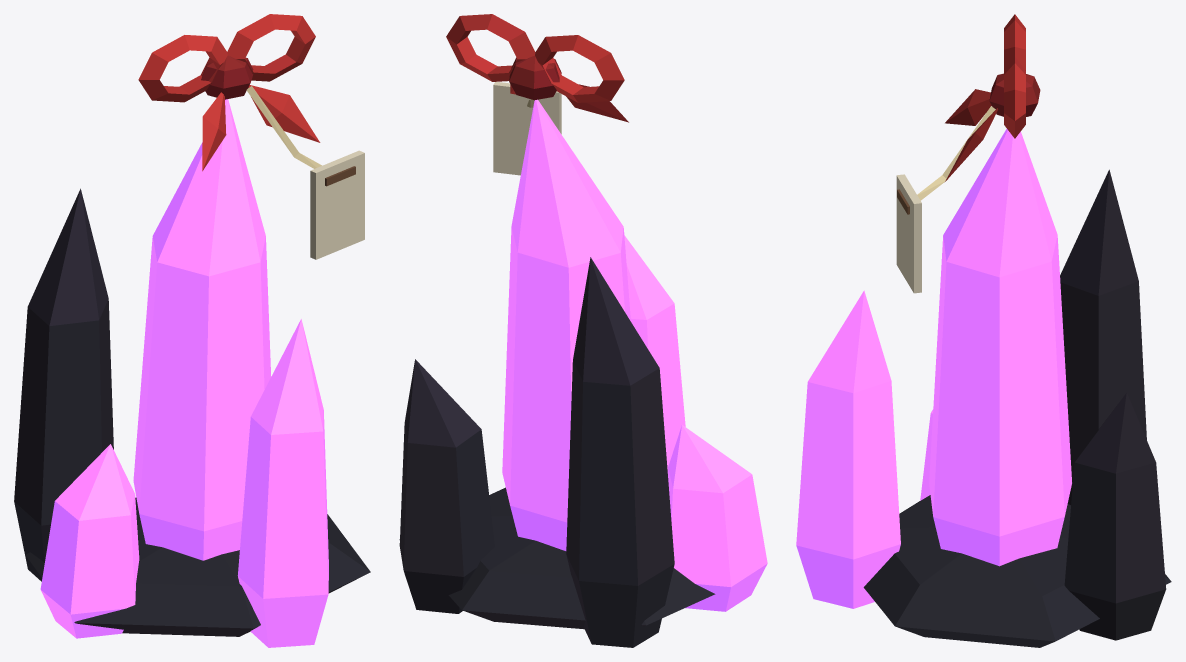
The model's file is quest_void_crystal.glb.
3 views of the same model, side by side, from view 1: azimuth 30°, elevation 25°; view 2: azimuth 150°, elevation 25°; view 3: azimuth 270°, elevation 25° (orthographic). The views are drawn at different scales.
Visible parts, largest first — view 1: quest_void_crystal; view 2: quest_void_crystal; view 3: quest_void_crystal.
Boxes of the visible parts, <box> form: quest_void_crystal: <box>14,14,370,647</box>; quest_void_crystal: <box>399,14,767,647</box>; quest_void_crystal: <box>796,14,1171,647</box>.
Bounding box in the file's own units: 0.2612 × 0.4573 × 0.2666.
